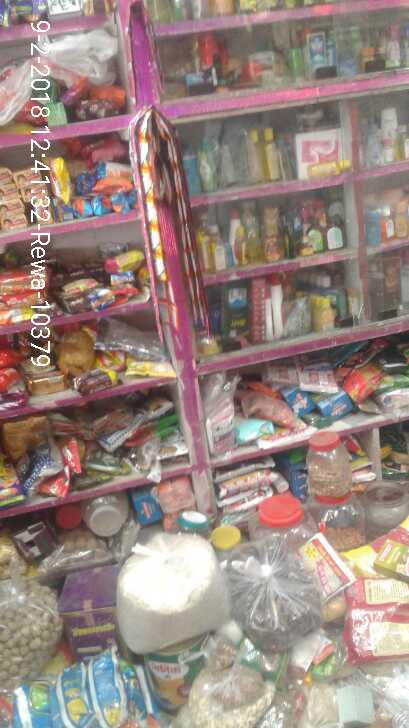reject: (244, 220, 317, 287)
